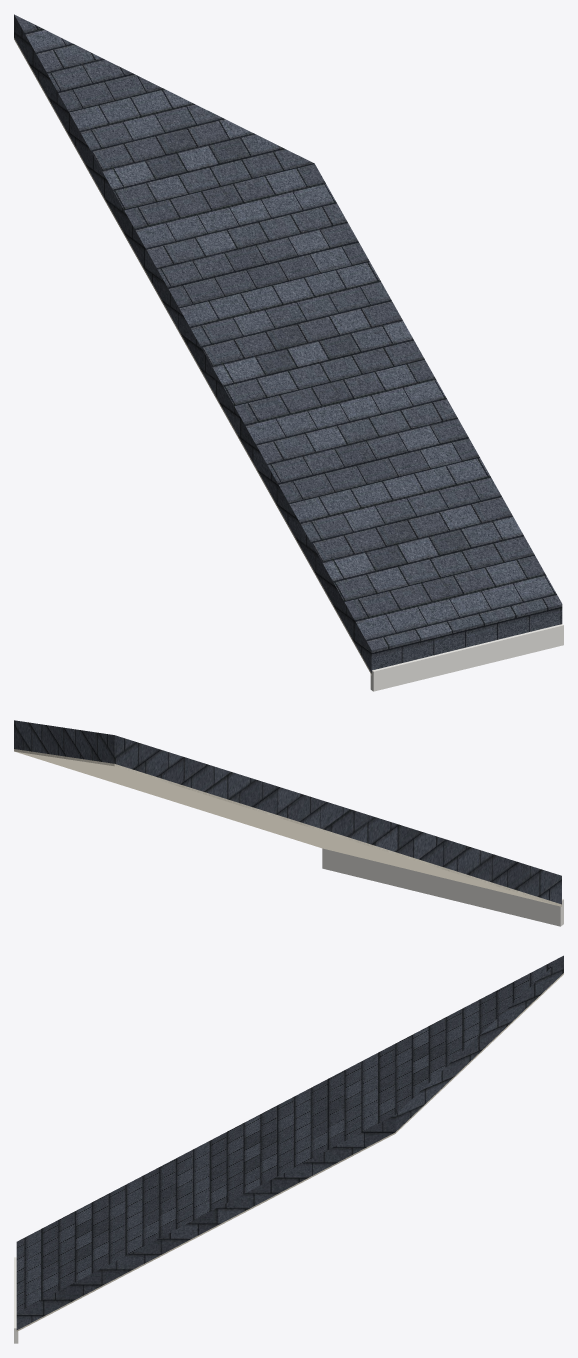
The model's file is roof_hip_1.glb.
The picture shows the model from 3 angles, top to bottom: view 1: azimuth 30°, elevation 25°; view 2: azimuth 150°, elevation 25°; view 3: azimuth 270°, elevation 25°; orthographic projection. The views are drawn at different scales.
Parts seen in each view (by area): view 1: roof_hip_1_shingle, roof_hip_1_trim, roof_hip_1_plaster; view 2: roof_hip_1_shingle, roof_hip_1_plaster, roof_hip_1_trim; view 3: roof_hip_1_shingle, roof_hip_1_plaster.
Boxes of the visible parts, left/top/right/bottom form: roof_hip_1_shingle: left=14, top=14, right=562, bottom=673; roof_hip_1_trim: left=370, top=624, right=563, bottom=691; roof_hip_1_plaster: left=14, top=38, right=371, bottom=675; roof_hip_1_shingle: left=14, top=720, right=561, bottom=904; roof_hip_1_plaster: left=14, top=749, right=561, bottom=906; roof_hip_1_trim: left=322, top=848, right=563, bottom=926; roof_hip_1_shingle: left=16, top=955, right=563, bottom=1329; roof_hip_1_plaster: left=16, top=973, right=563, bottom=1331.
Size of the model in its own units: 2 by 4.15 by 6.53.
Materials: 3 (2 with a texture image).
